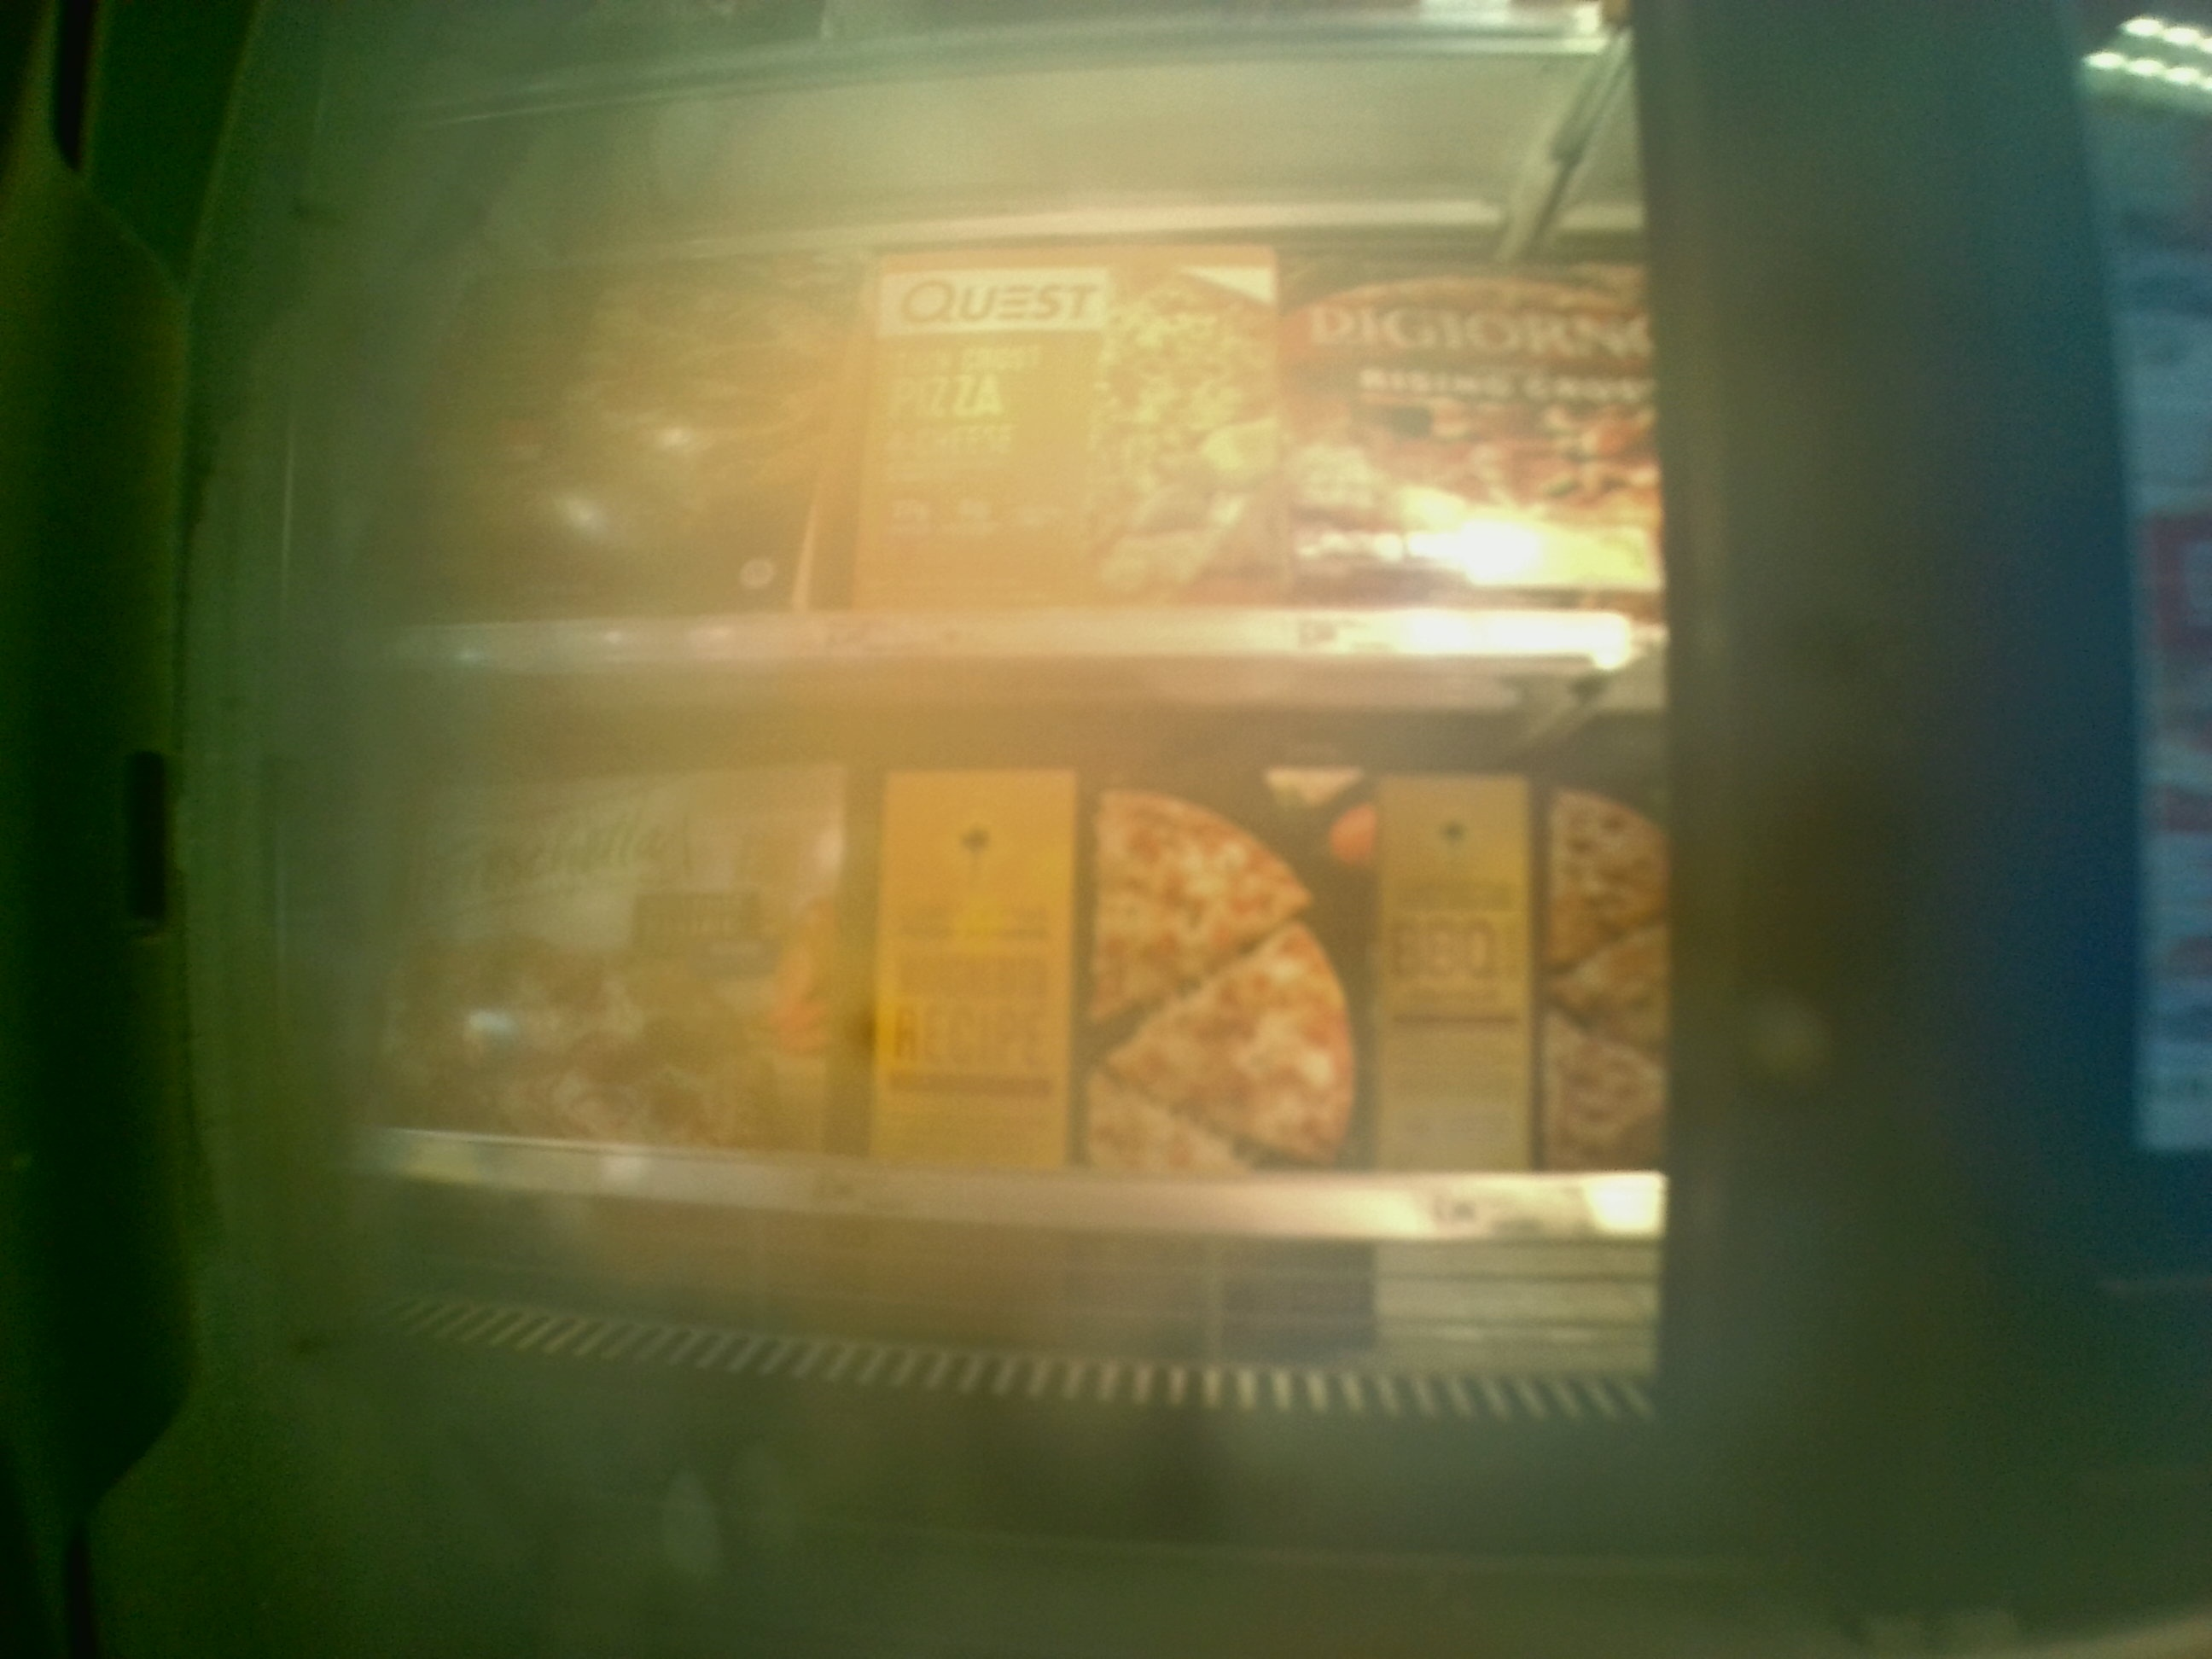shelf: (350, 643, 1676, 1401)
